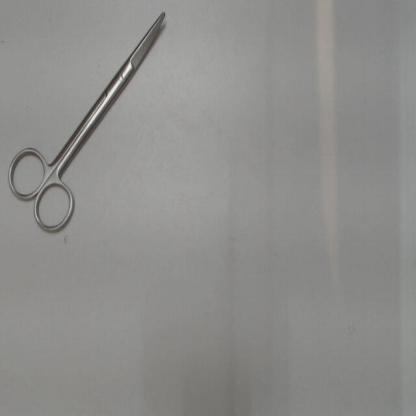Curved Mayo Scissors: (4, 3, 172, 240)
